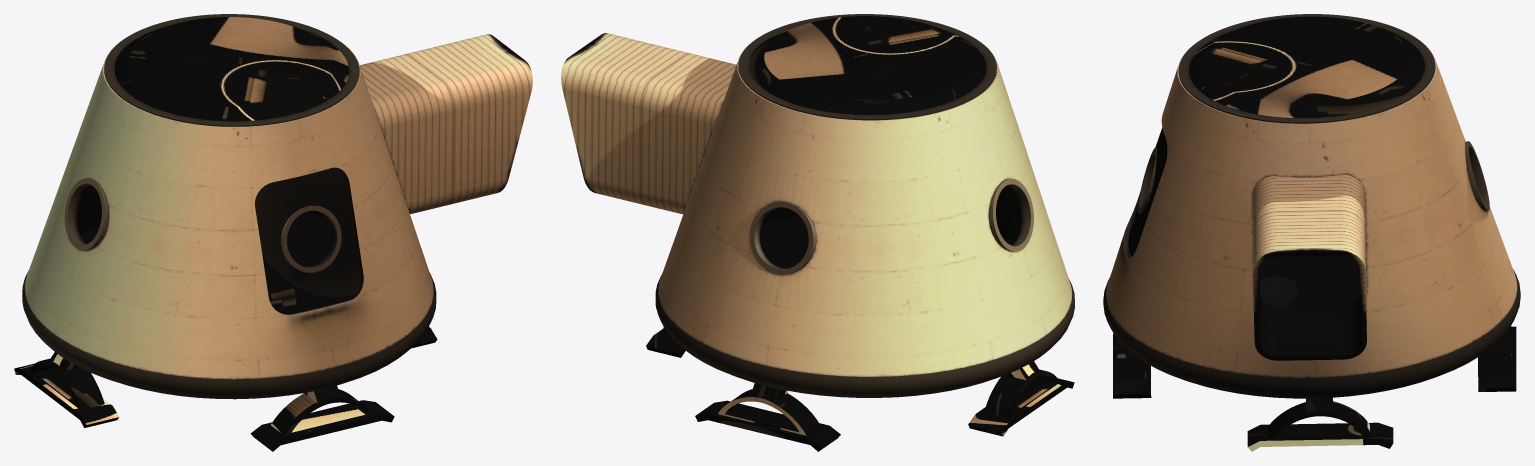
Rendered from marsmodule.glb.
The picture shows the model from 3 angles, left to right: view 1: azimuth 30°, elevation 25°; view 2: azimuth 150°, elevation 25°; view 3: azimuth 270°, elevation 25°; orthographic projection.
Visible parts, largest first — view 1: Mars_One___module01; view 2: Mars_One___module01; view 3: Mars_One___module01.
Part boxes in pixels (x1,y1,x2,y2): Mars_One___module01: [14, 14, 532, 451]; Mars_One___module01: [561, 14, 1074, 451]; Mars_One___module01: [1103, 14, 1520, 451].
Bounding box in the file's own units: 0.1 × 0.0643 × 0.0785.
Materials: 1 (1 with a texture image).
